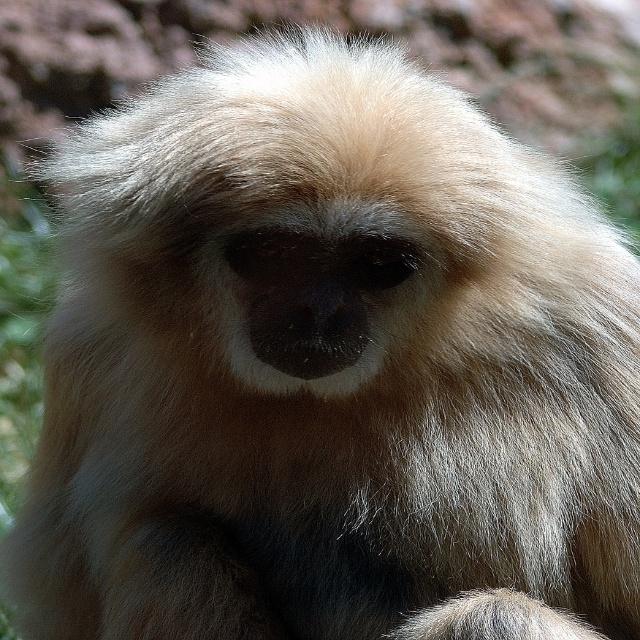Monkey: (0, 49, 640, 640)
